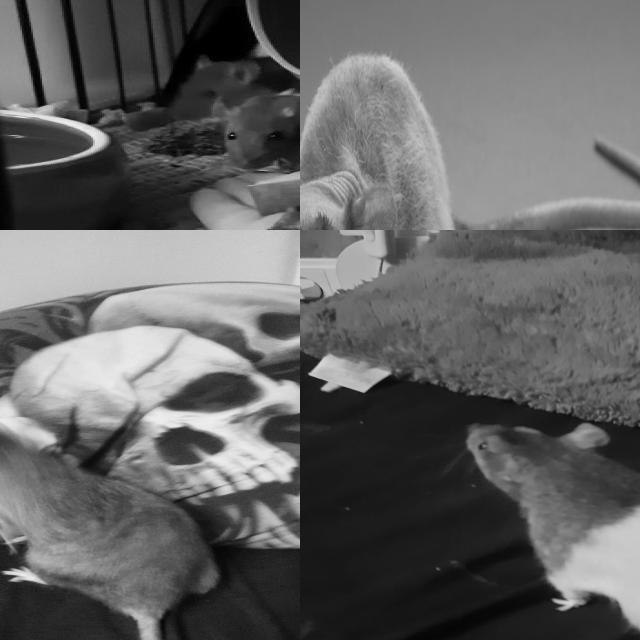rat: (0, 409, 230, 617), (463, 420, 640, 640), (300, 49, 473, 230), (215, 89, 300, 171)
